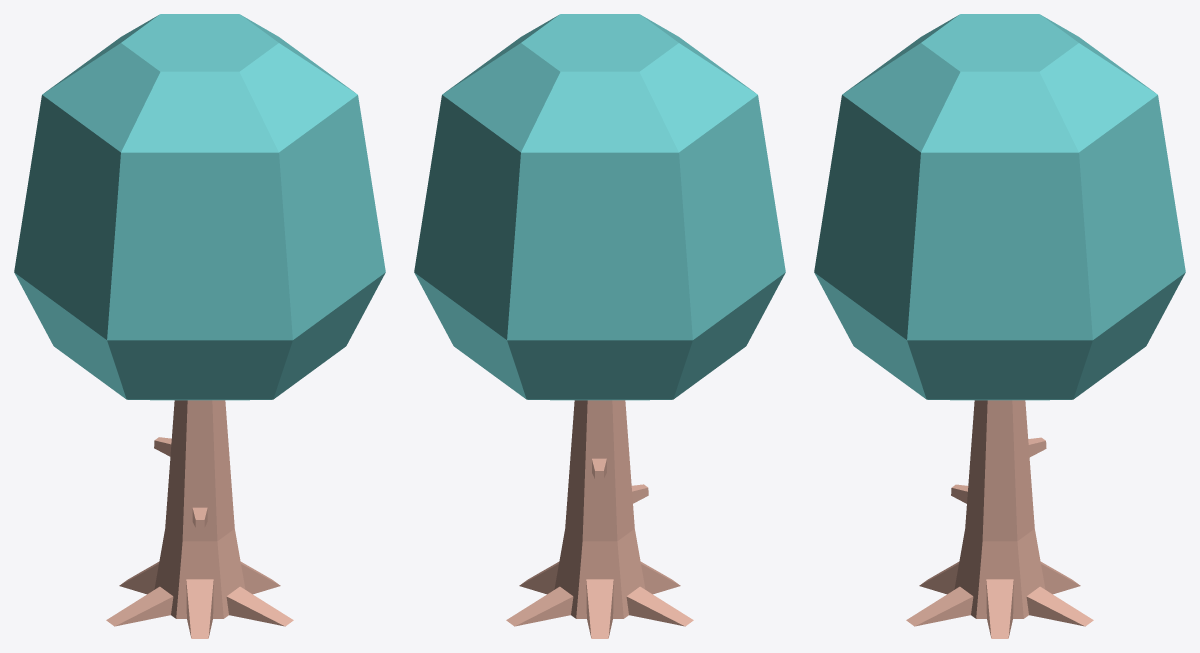
File: tree_oak_dark.glb
3 views of the same model, side by side, from view 1: azimuth 30°, elevation 25°; view 2: azimuth 150°, elevation 25°; view 3: azimuth 270°, elevation 25° (orthographic).
Visible parts, largest first — view 1: tree_oak_dark; view 2: tree_oak_dark; view 3: tree_oak_dark.
Boxes of the visible parts, box(x1,y1,x2,y2) form: tree_oak_dark: box(14, 14, 385, 638); tree_oak_dark: box(414, 14, 785, 638); tree_oak_dark: box(814, 14, 1185, 638).
Size of the model in its own units: 0.6406 by 1.23 by 0.7396.
